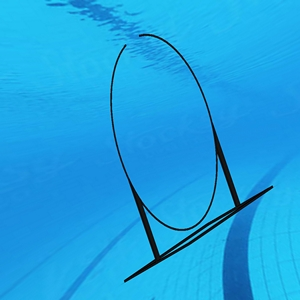circle: (109, 33, 276, 283)
